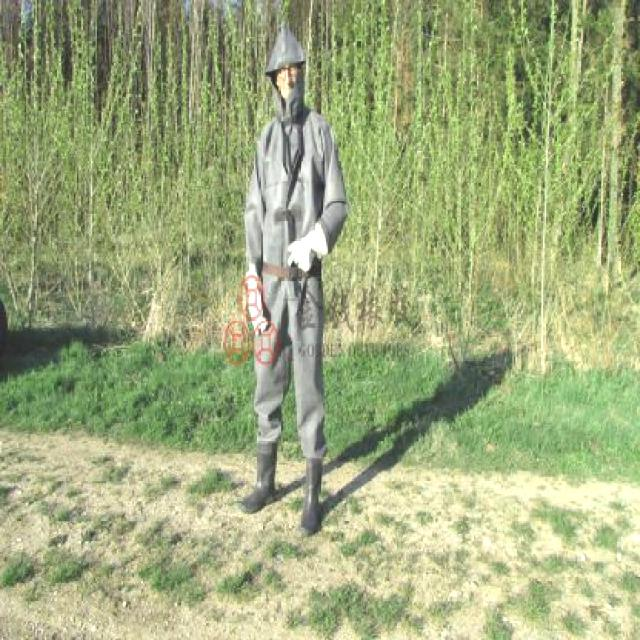boots: (233, 439, 282, 519), (295, 457, 331, 538)
face_nomask: (272, 63, 303, 102)
hand_glove: (286, 240, 320, 274), (246, 288, 268, 337)
person: (230, 18, 364, 530)
